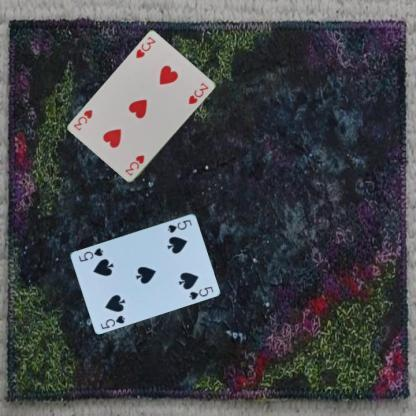3h: (122, 152, 146, 178), (134, 34, 156, 60)
5s: (165, 216, 193, 235), (98, 312, 127, 330)
